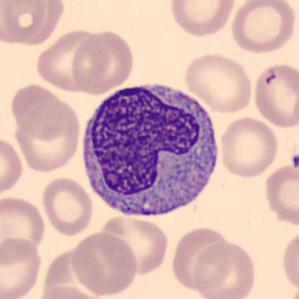Monocyte: (75, 74, 226, 225)
Platelets: (289, 152, 299, 172)
RBC: (12, 97, 83, 174), (34, 26, 107, 94), (96, 212, 170, 277), (68, 230, 138, 297), (182, 50, 254, 114), (70, 27, 136, 96), (168, 224, 232, 292), (190, 240, 258, 299), (218, 115, 280, 179), (227, 0, 298, 55), (41, 247, 109, 299), (40, 176, 95, 237), (251, 60, 298, 130), (10, 83, 65, 142), (0, 194, 47, 258), (0, 235, 44, 299), (167, 0, 237, 38), (8, 0, 66, 44), (262, 162, 298, 228), (0, 0, 50, 46), (0, 135, 25, 198), (280, 228, 298, 295), (35, 284, 105, 299)
